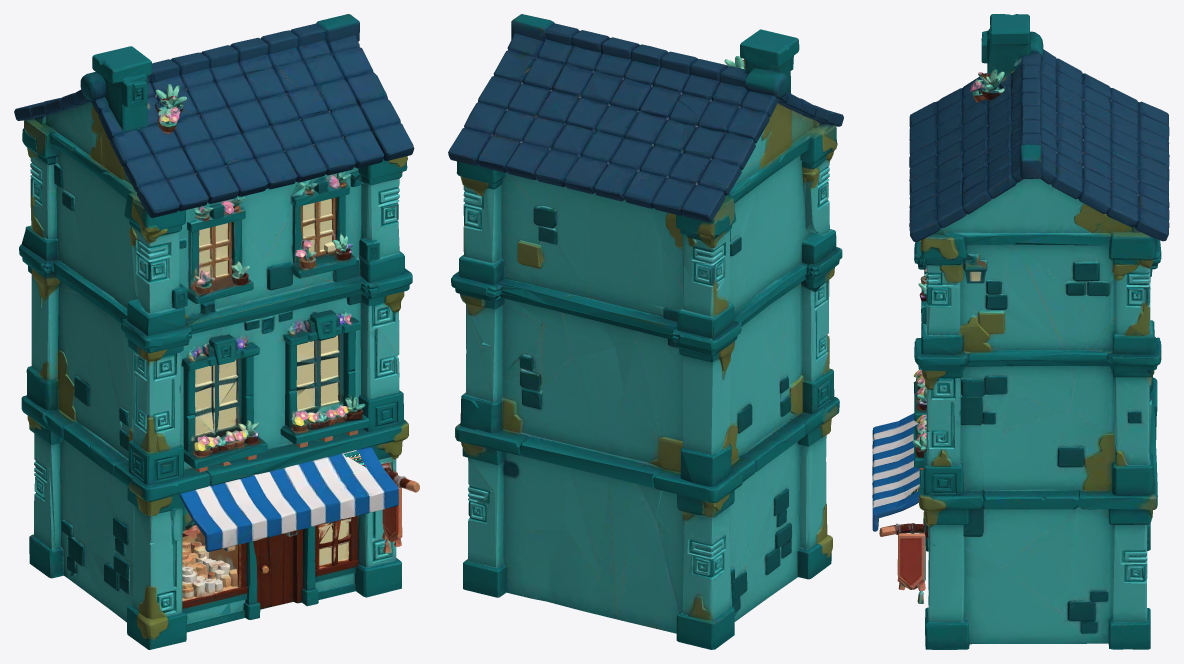
File: street_b2.glb
The picture shows the model from 3 angles, left to right: view 1: azimuth 30°, elevation 25°; view 2: azimuth 150°, elevation 25°; view 3: azimuth 270°, elevation 25°; orthographic projection. The views are drawn at different scales.
Parts seen in each view (by area): view 1: building_b2_teal; view 2: building_b2_teal; view 3: building_b2_teal.
Part boxes in pixels (x1=…): building_b2_teal: x1=14, y1=14, x2=419, y2=649; building_b2_teal: x1=448, y1=14, x2=843, y2=649; building_b2_teal: x1=872, y1=14, x2=1169, y2=649.
Size of the model in its own units: 5.62 by 11 by 5.69.
1 material, 1 textured.
